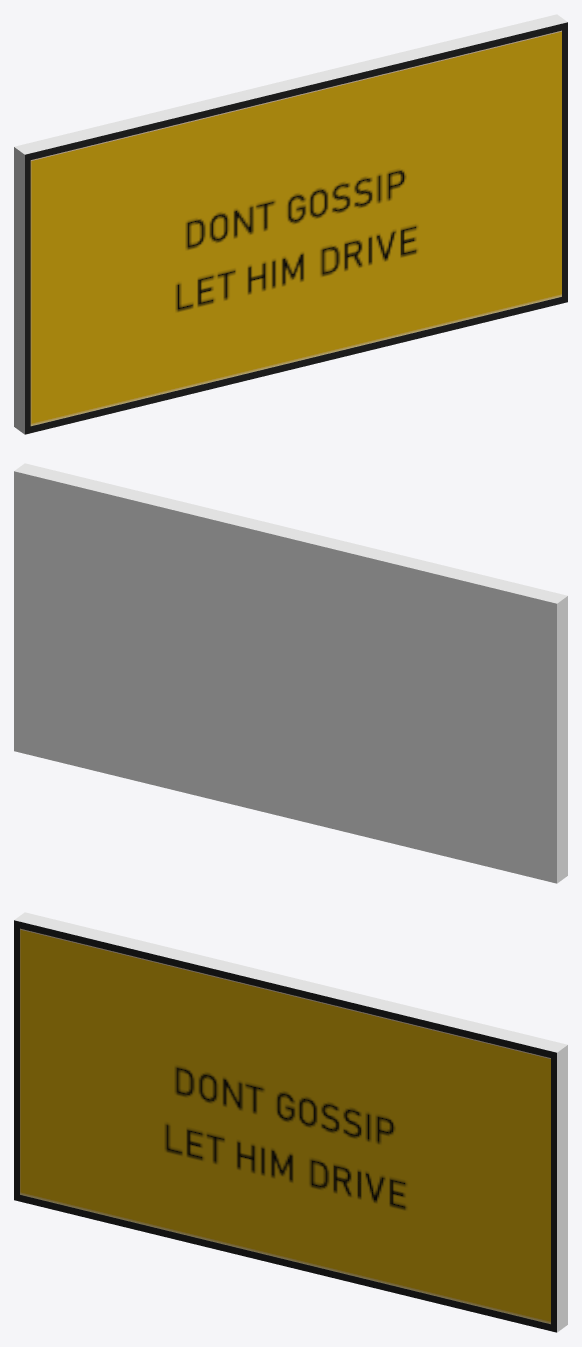
Rendered from road_signboard_06.fbx.
3 views of the same model, one above another, from view 1: azimuth 30°, elevation 25°; view 2: azimuth 150°, elevation 25°; view 3: azimuth 330°, elevation 25° (orthographic).
Parts seen in each view (by area): view 1: road_signboard_06; view 2: road_signboard_06; view 3: road_signboard_06.
Boxes of the visible parts, <box> form: road_signboard_06: <box>14,14,567,434</box>; road_signboard_06: <box>14,463,567,883</box>; road_signboard_06: <box>14,912,567,1332</box>.
Bounding box in the file's own units: 693 × 341 × 24.07.
